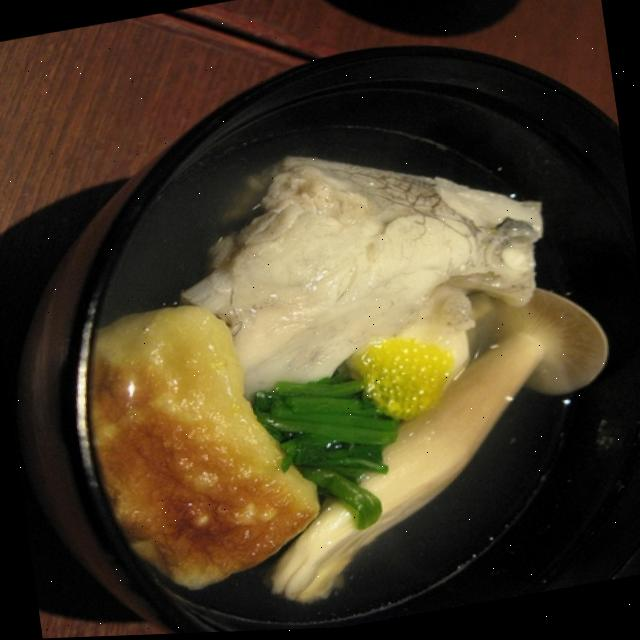汤锅炖物: (16, 36, 640, 640)
